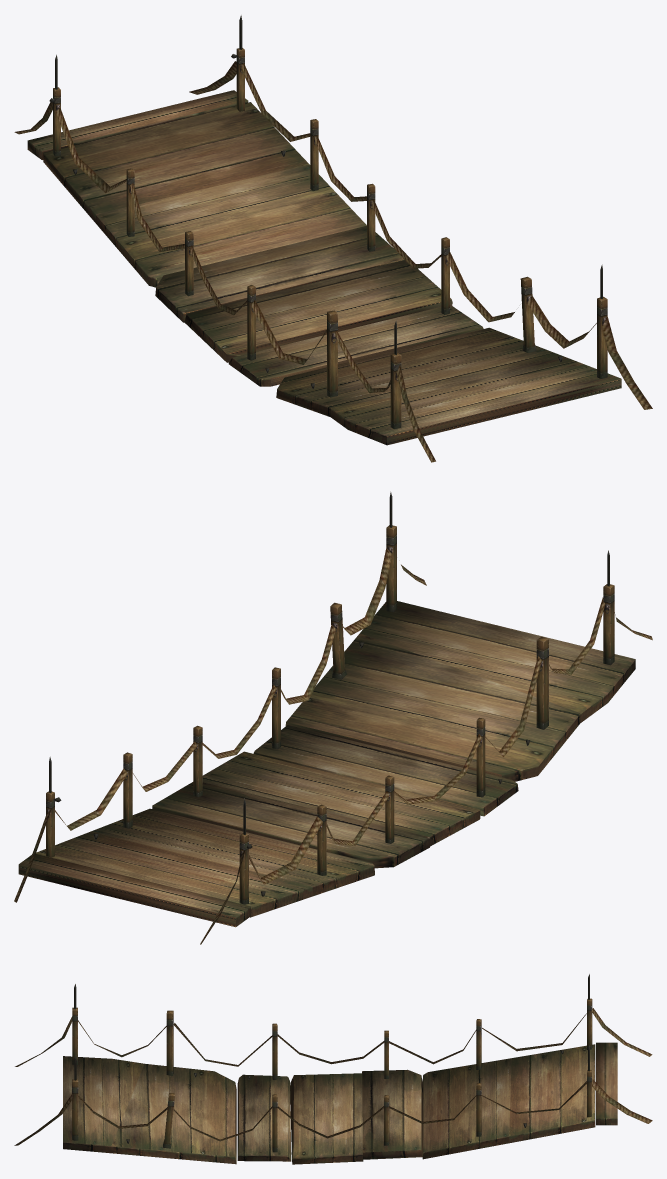
File: KQZD_diaoqiao.FBX
3 views of the same model, one above another, from view 1: azimuth 30°, elevation 25°; view 2: azimuth 150°, elevation 25°; view 3: azimuth 270°, elevation 25° (orthographic). The views are drawn at different scales.
Parts seen in each view (by area): view 1: KQZD_diaoqiao; view 2: KQZD_diaoqiao; view 3: KQZD_diaoqiao.
Part boxes in pixels (x1,y1,x2,y2): KQZD_diaoqiao: [14, 15, 652, 462]; KQZD_diaoqiao: [14, 491, 652, 944]; KQZD_diaoqiao: [14, 974, 652, 1164].
Size of the model in its own units: 414 by 1254 by 257.
